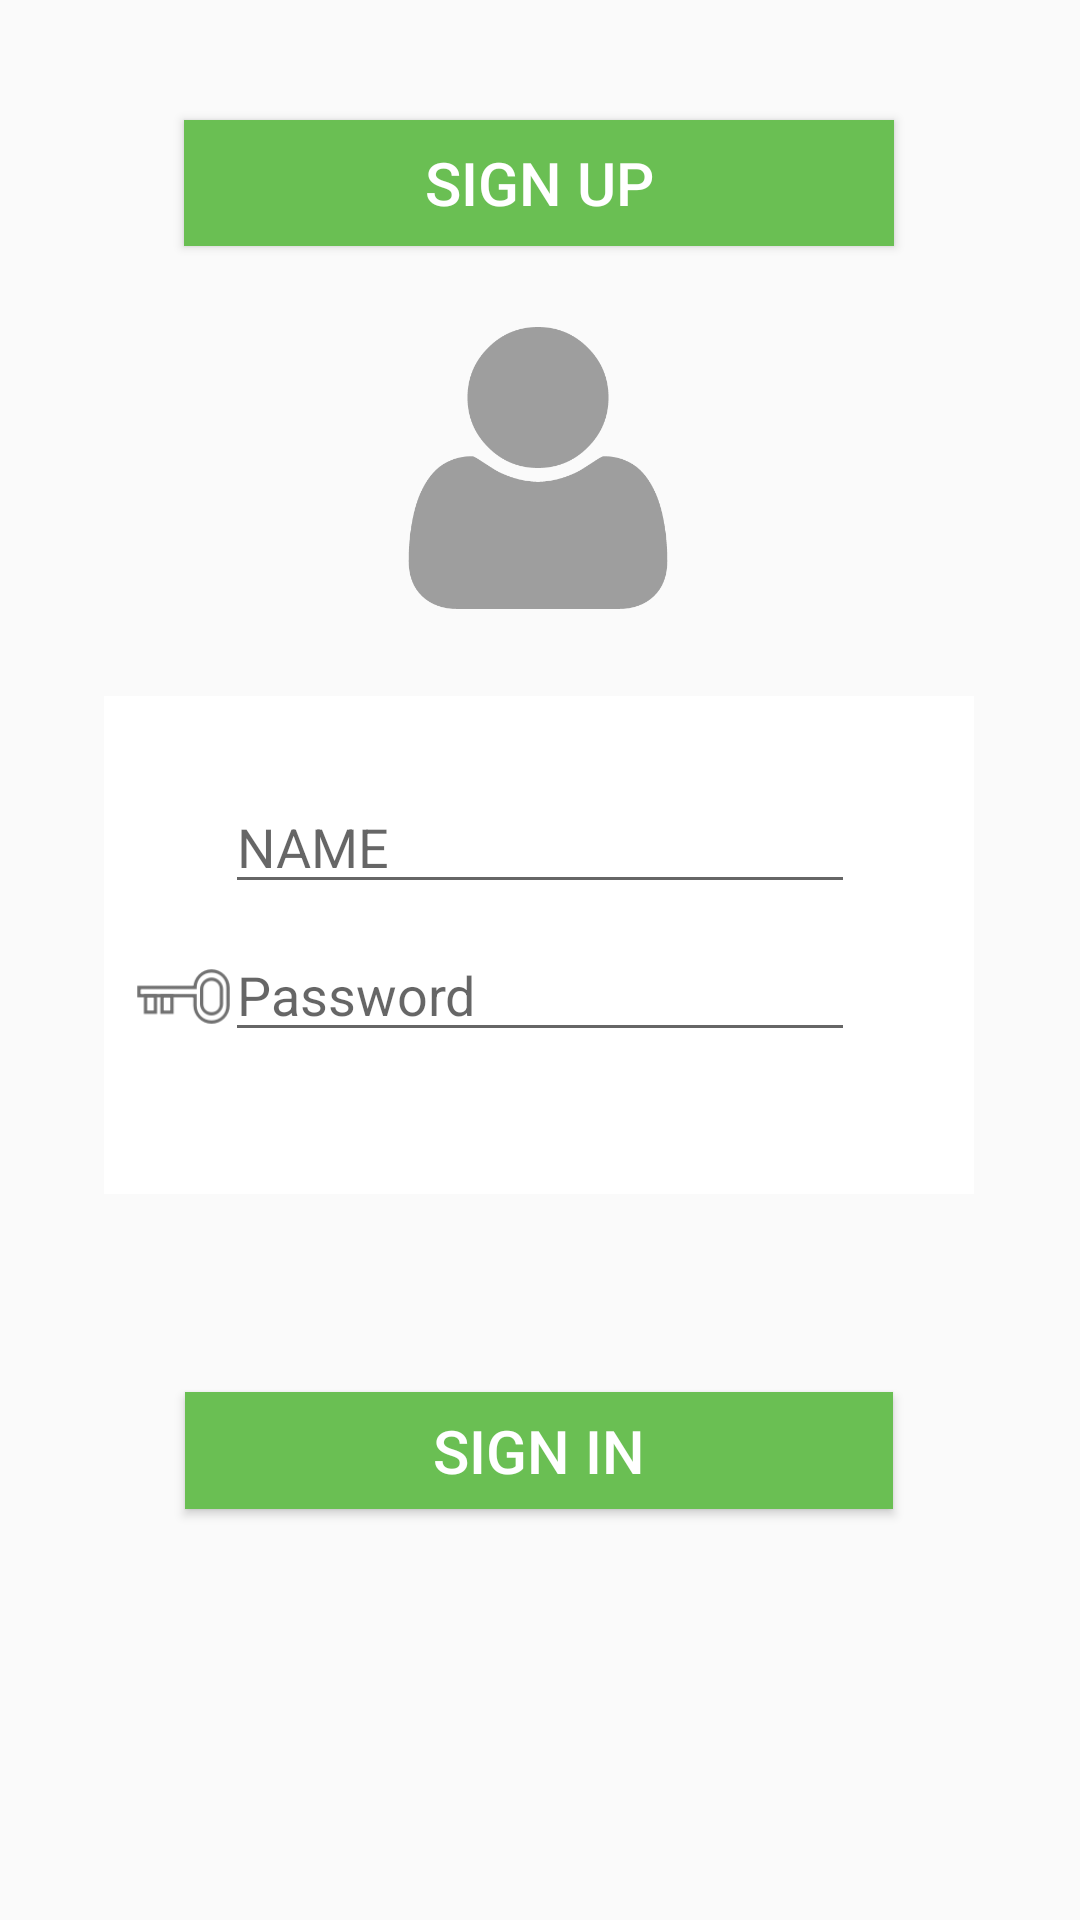

Icons on this 1080px×1920px Android screen, each with the point to tap as point (x, y):
key: point (183, 996)
user: point (538, 468)
